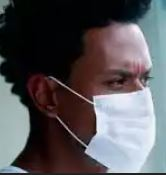with_facemask: (94, 91, 160, 166)
